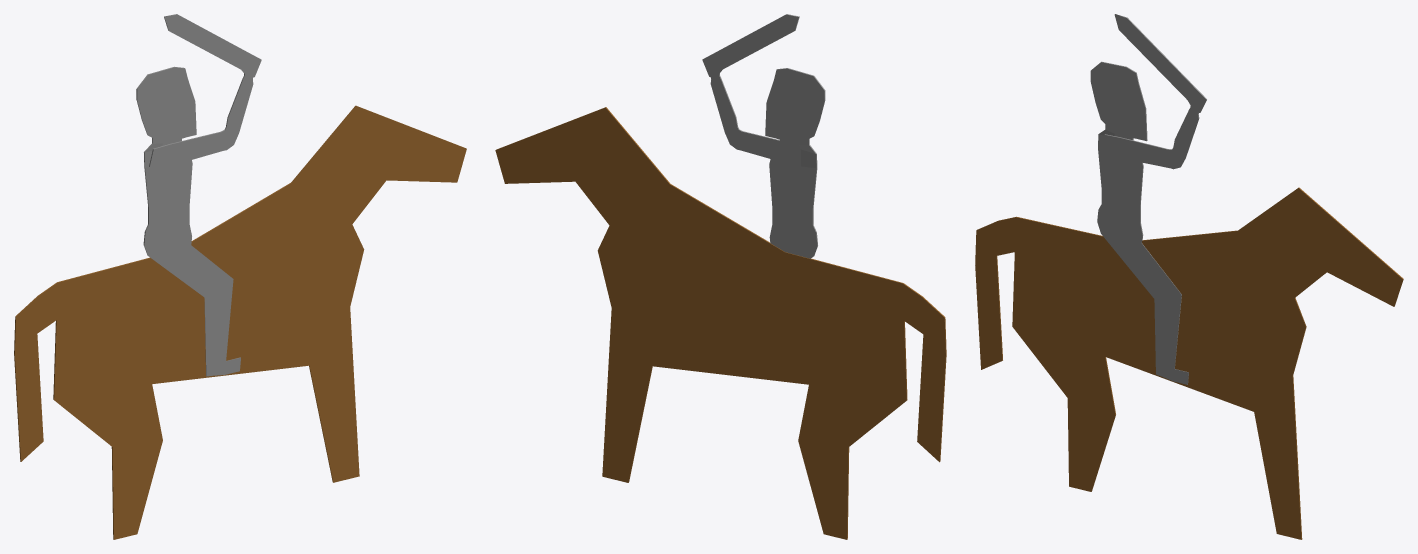
Rendered from ProtoKnight1.fbx.
3 renders of one model, left to right at view 1: azimuth 30°, elevation 25°; view 2: azimuth 150°, elevation 25°; view 3: azimuth 330°, elevation 25°, orthographic. The views are drawn at different scales.
Parts seen in each view (by area): view 1: Horse, Body, Arm; view 2: Horse, Body, Arm; view 3: Horse, Body, Arm.
Boxes of the visible parts, x1,y1,x2,y2 form: Horse: (14,105,466,539); Body: (136,66,240,376); Arm: (149,14,261,167); Horse: (495,107,946,539); Body: (765,68,825,258); Arm: (702,14,799,158); Horse: (975,187,1403,539); Body: (1090,61,1188,384); Arm: (1100,14,1206,169).
Size of the model in its own units: 836 by 904 by 7.07.
